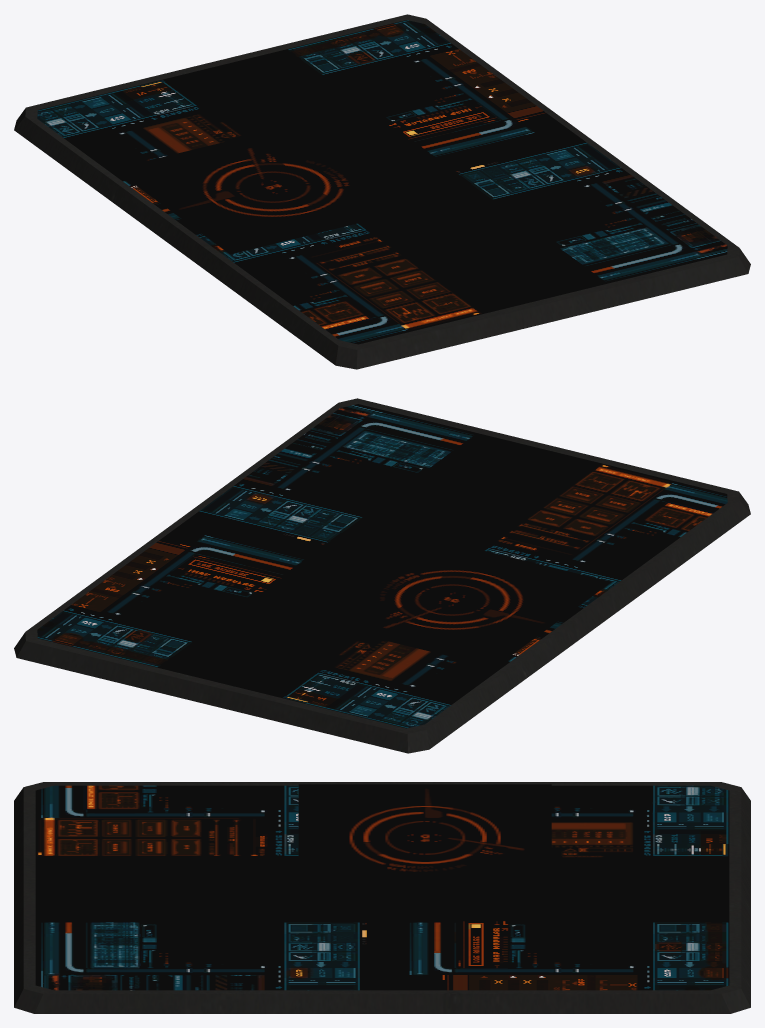
File: p6_control_panel_04_lod0.glb
3 renders of one model, top to bottom at view 1: azimuth 30°, elevation 25°; view 2: azimuth 150°, elevation 25°; view 3: azimuth 270°, elevation 25°, orthographic. The views are drawn at different scales.
Visible parts, largest first — view 1: surf1, surf0, surf2; view 2: surf1, surf0, surf2; view 3: surf1, surf0, surf2.
Boxes of the visible parts, x1,y1,x2,y2 form: surf1: (37,20,727,344); surf0: (14,14,750,369); surf2: (114,120,432,254); surf1: (37,404,727,728); surf0: (14,398,750,753); surf2: (293,532,611,667); surf1: (35,785,729,990); surf0: (14,782,750,1013); surf2: (298,784,551,891).
Size of the model in its own units: 15 by 0.6064 by 21.28.
